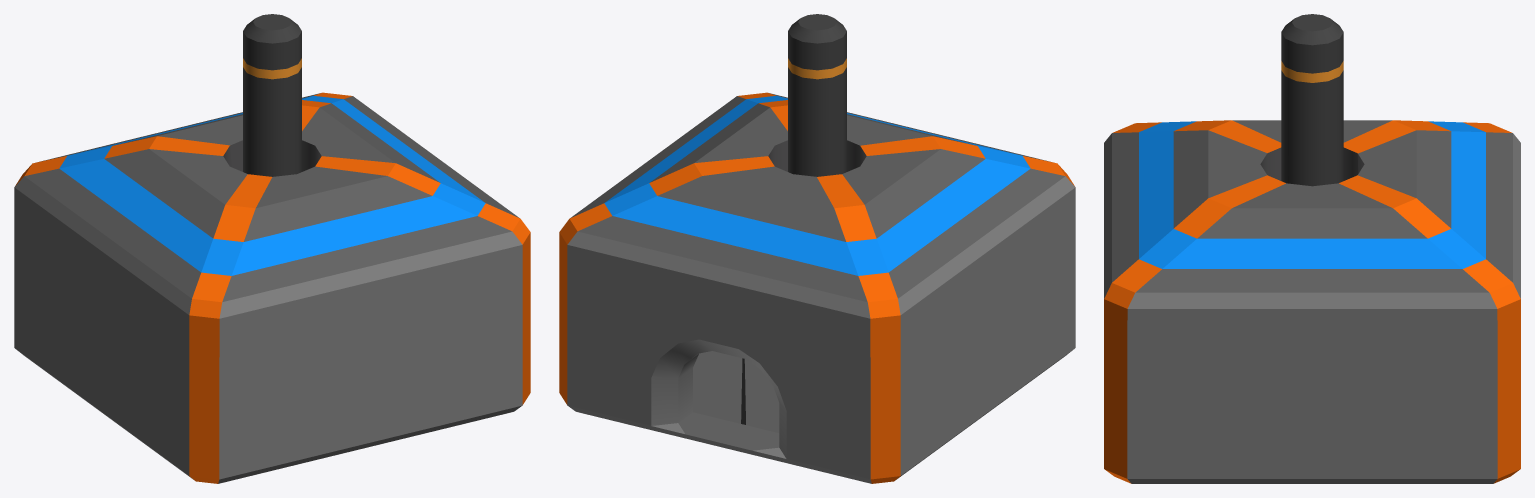
File: Power_F.fbx
The picture shows the model from 3 angles, left to right: view 1: azimuth 30°, elevation 25°; view 2: azimuth 150°, elevation 25°; view 3: azimuth 270°, elevation 25°; orthographic projection. The views are drawn at different scales.
Parts seen in each view (by area): view 1: Cube, Cylinder; view 2: Cube, Cylinder; view 3: Cube, Cylinder.
Part boxes in pixels (x1=…): Cube: x1=14, y1=92, x2=530, y2=483; Cylinder: x1=243, y1=14, x2=301, y2=176; Cube: x1=559, y1=92, x2=1075, y2=483; Cylinder: x1=788, y1=14, x2=846, y2=176; Cube: x1=1104, y1=120, x2=1520, y2=483; Cylinder: x1=1281, y1=14, x2=1343, y2=186.
Bounding box in the file's own units: 2 × 2 × 2.
